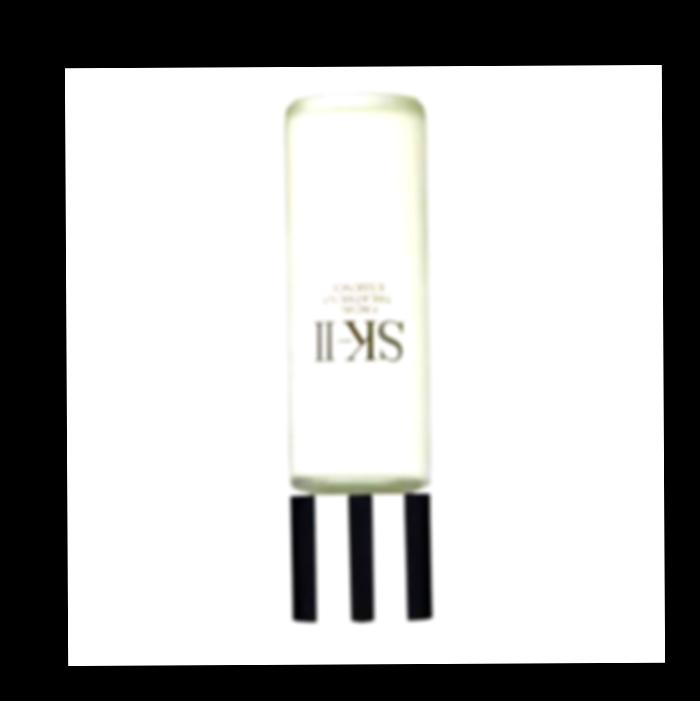cosmetic: (279, 90, 434, 619)
